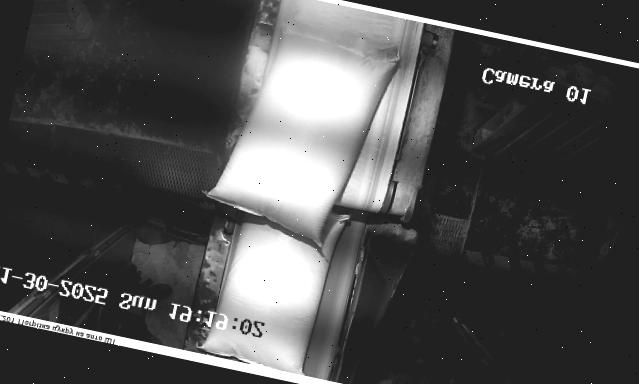bag: (194, 17, 404, 256), (200, 192, 353, 378)
